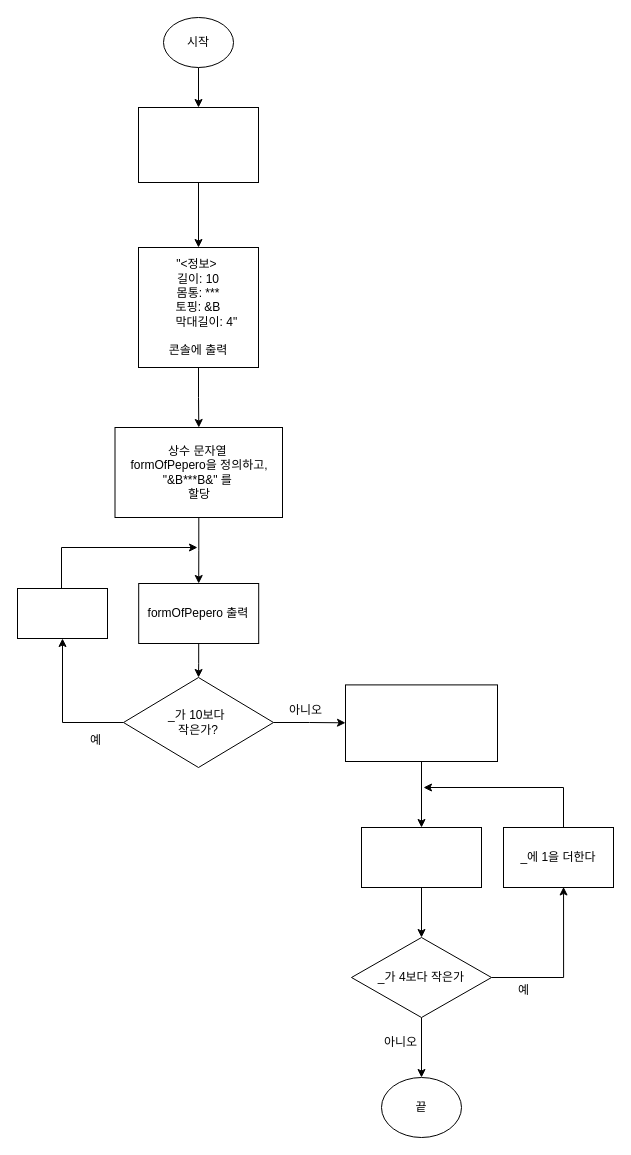
This 631x1155 diagram has some shape labels left out. Each missing label, with the box of its shape:
_ 에 1을 더한다.: (16, 588, 108, 638)
length : 10 lengthOfStick : 4 styleOfPepero : "***" topping : "&B": (138, 106, 258, 182)
stick 출력: (360, 826, 482, 888)
상수 문자열 formOfStick을 정의하고, " | | " 을 할 당: (344, 684, 498, 762)
